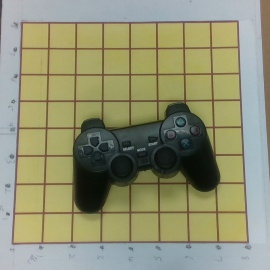remote: (74, 101, 221, 212)
